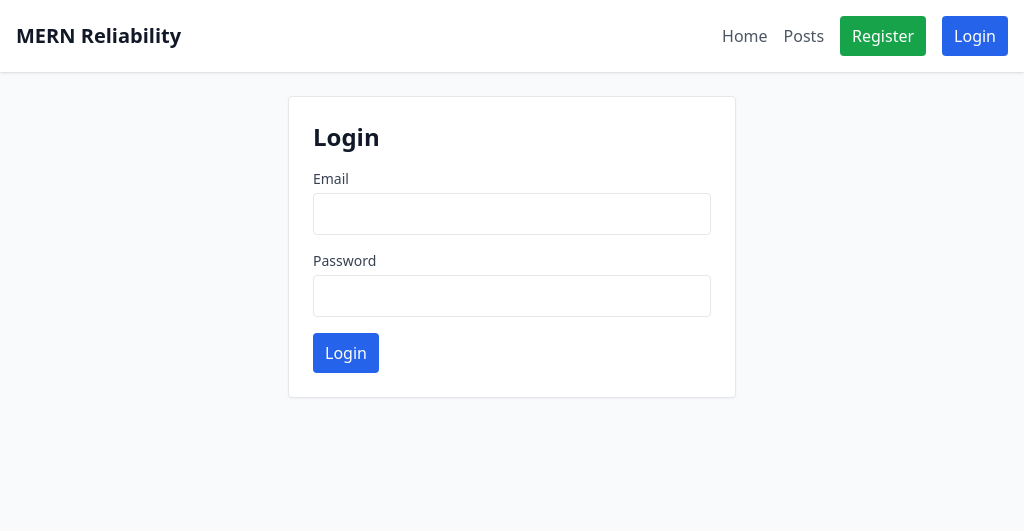
Test: Posts CRUD flow › creates a new post from the form
Step 1. Type "user@example.com" into the field named "email" → (512, 214), box [313,193,711,235]
Step 2. Type "Password1" into the password field named "password" → (512, 296), box [313,275,711,317]
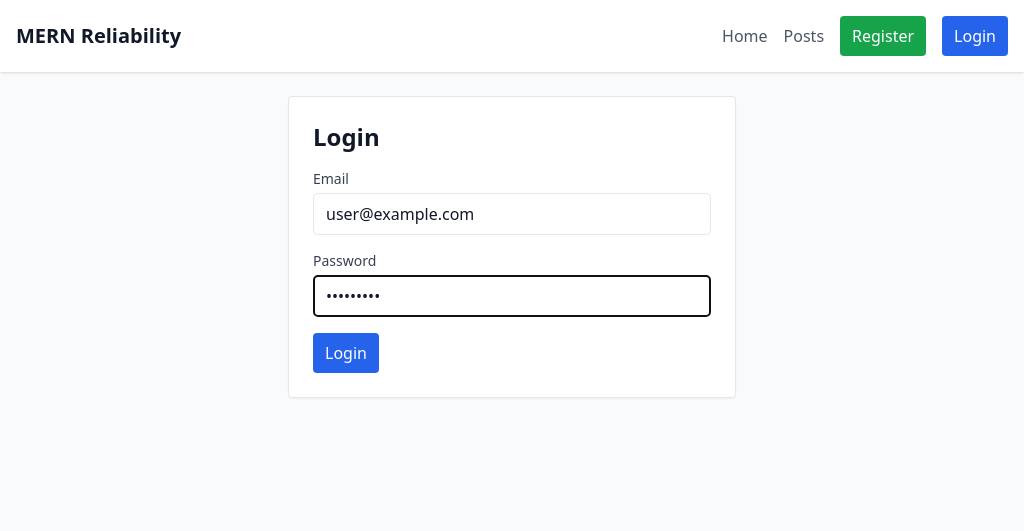
Step 3. Click the button "Login" → (346, 353), box [313,333,379,373]
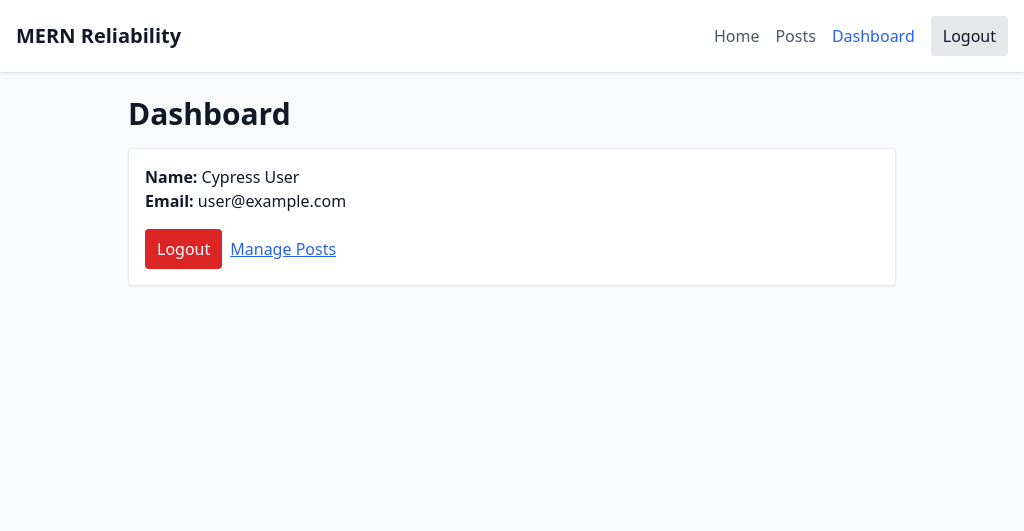
Step 4. Open "/posts"
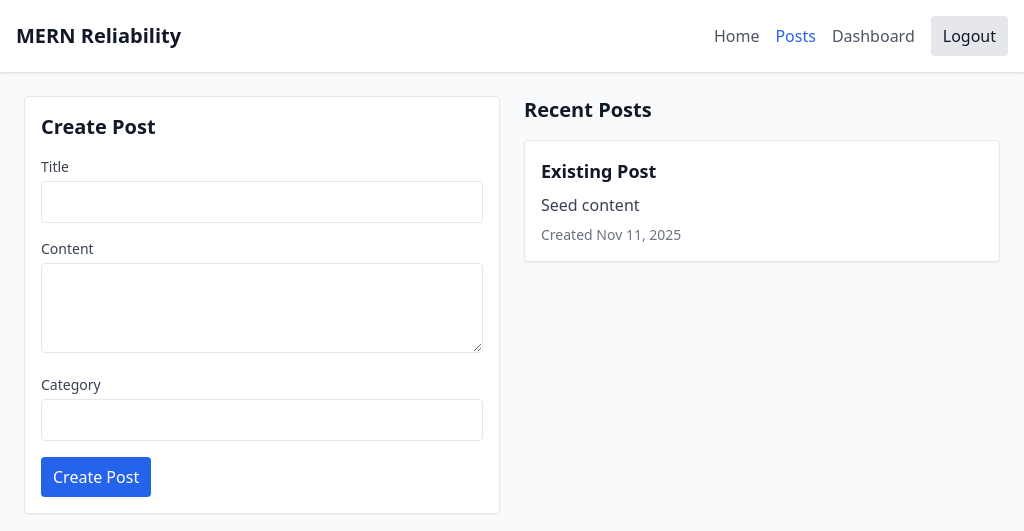
expect the heading "Existing Post" is shown: met, box [541,159,656,183]
Step 5. Type "Cypress Post" into the field named "title" → (262, 202), box [41,181,483,223]
Step 6. Type "Created via Cypress" into the text box named "content" → (262, 308), box [41,263,483,353]
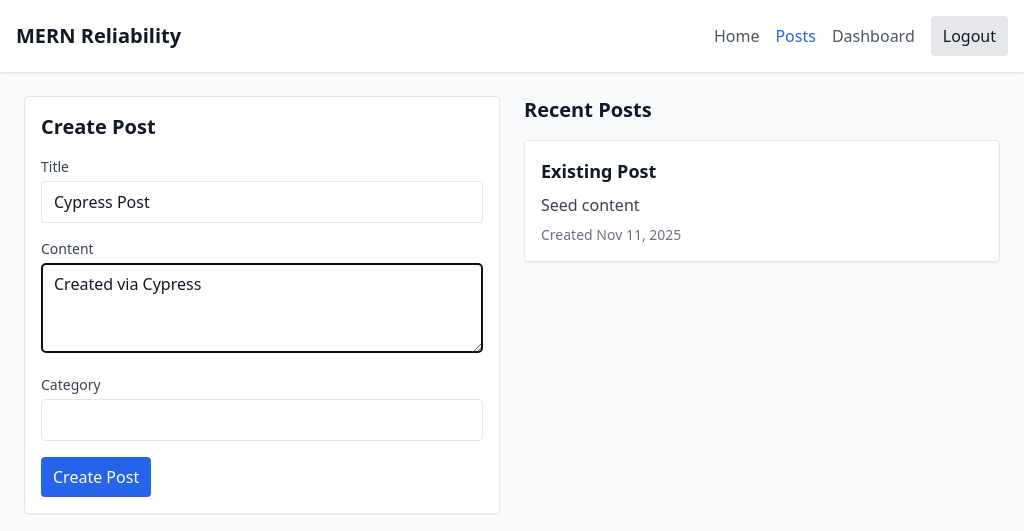
Step 7. Type "automation" into the field named "category" → (262, 420), box [41,399,483,441]
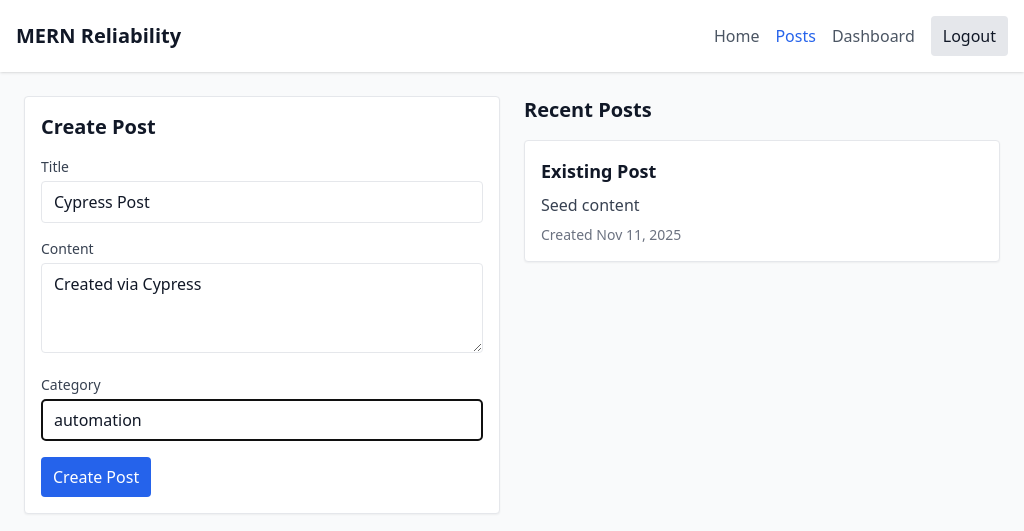
Step 8. Click the button "Create Post" → (96, 477), box [41,457,151,497]
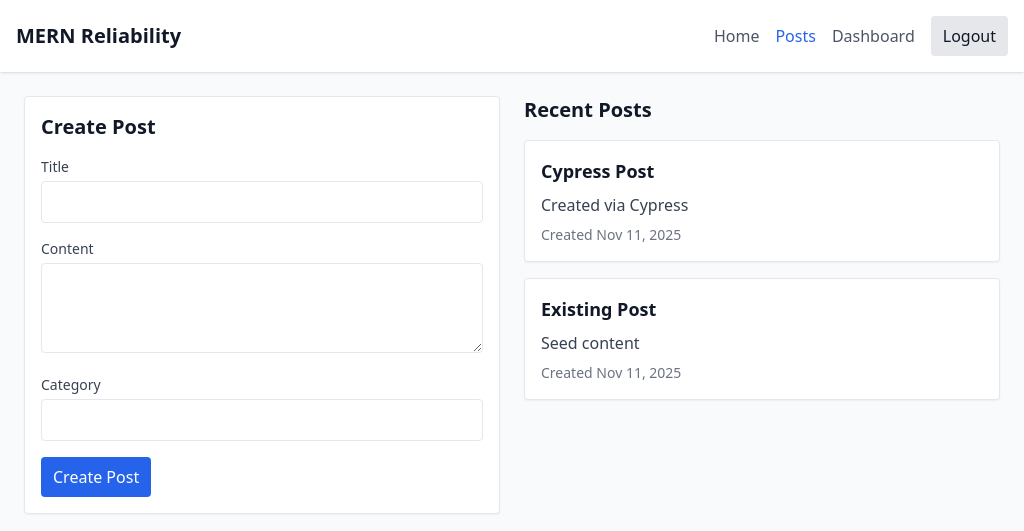
expect the heading "Cypress Post" is shown: met, box [541,159,654,183]
